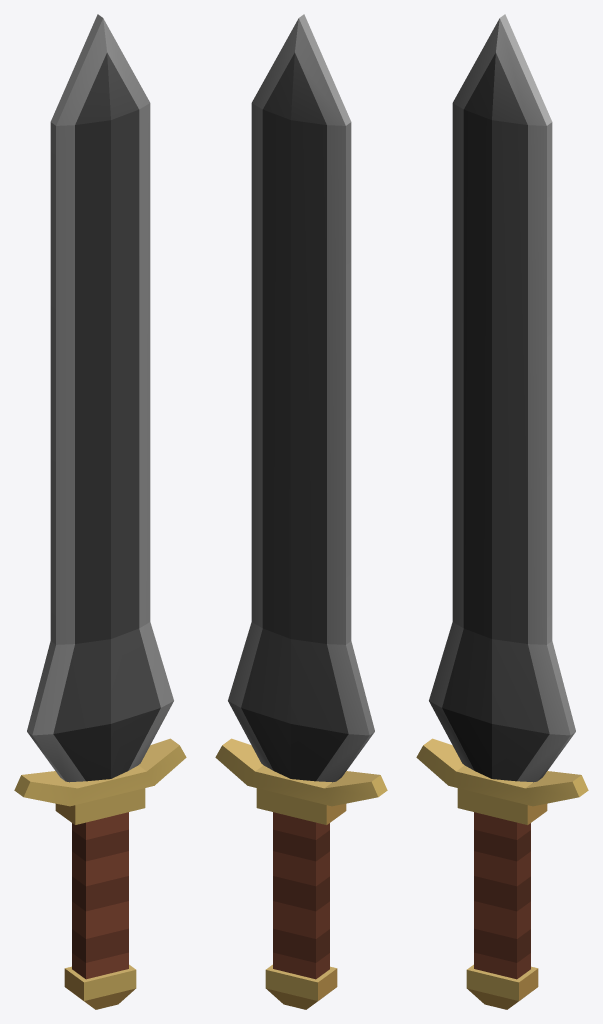
File: SF_Wep_BlackSword_01.fbx
The picture shows the model from 3 angles, left to right: view 1: azimuth 30°, elevation 25°; view 2: azimuth 150°, elevation 25°; view 3: azimuth 330°, elevation 25°; orthographic projection.
Parts seen in each view (by area): view 1: SF_Wep_BlackSword_01; view 2: SF_Wep_BlackSword_01; view 3: SF_Wep_BlackSword_01.
Part boxes in pixels (x1,y1,x2,y2): SF_Wep_BlackSword_01: (14, 14, 186, 1009); SF_Wep_BlackSword_01: (215, 14, 387, 1009); SF_Wep_BlackSword_01: (416, 14, 588, 1009).
Bounding box in the file's own units: 0.548 × 3.17 × 0.1372.
